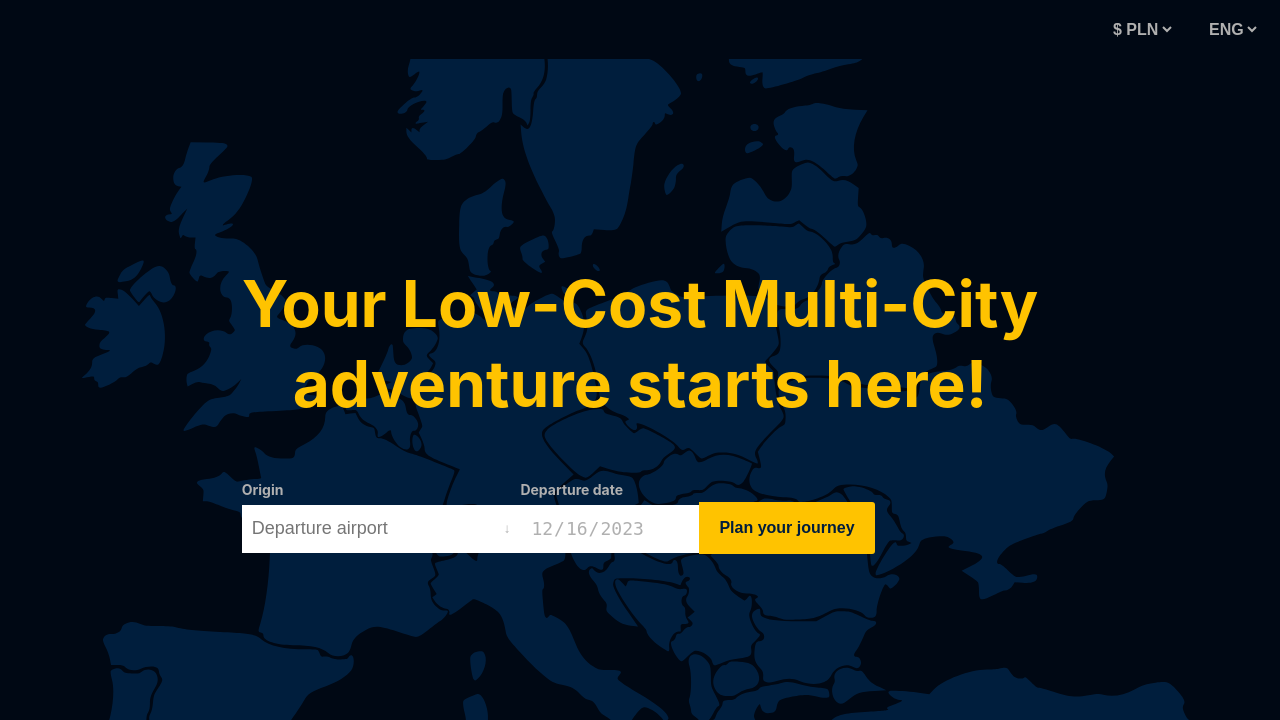
Test: Flight selection › allows user to select a flight and updates the ui
The width and height of the screenshot is (1280, 720).
Press ArrowDown in the dropdown with placeholder "Departure airport", box [242,504,494,552]
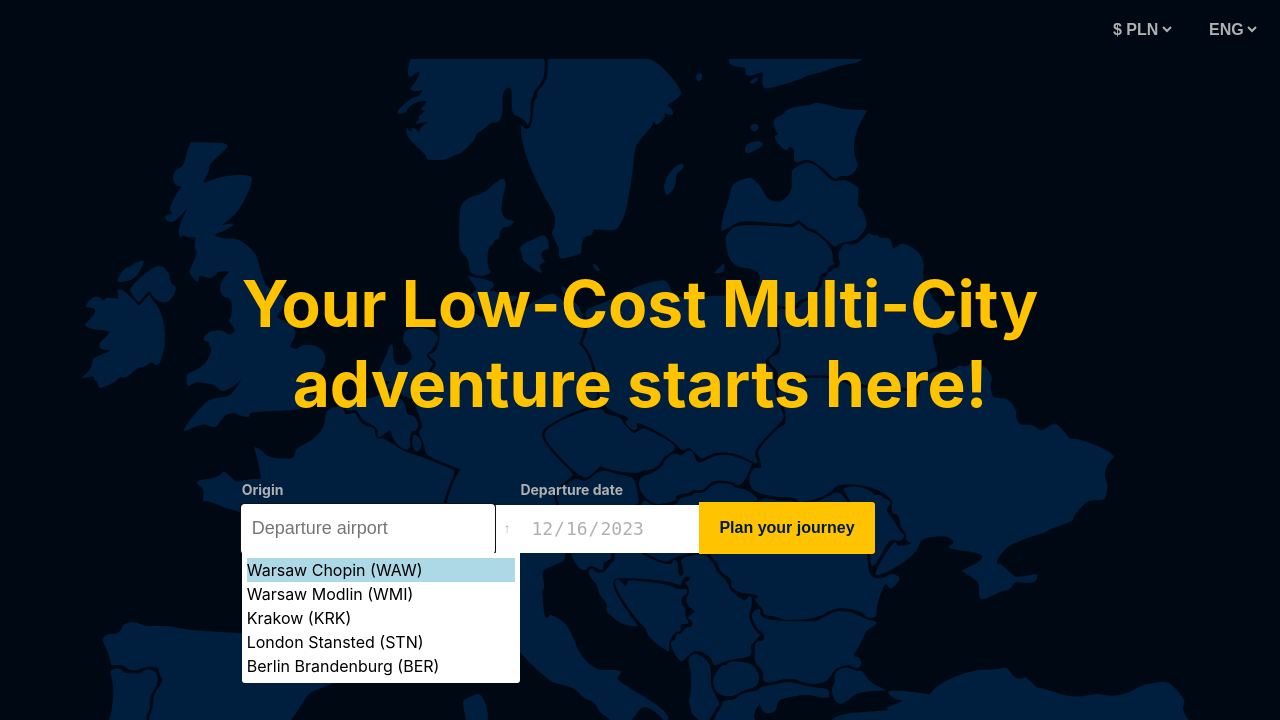
Press Enter in the dropdown with placeholder "Departure airport", box [242,504,494,552]
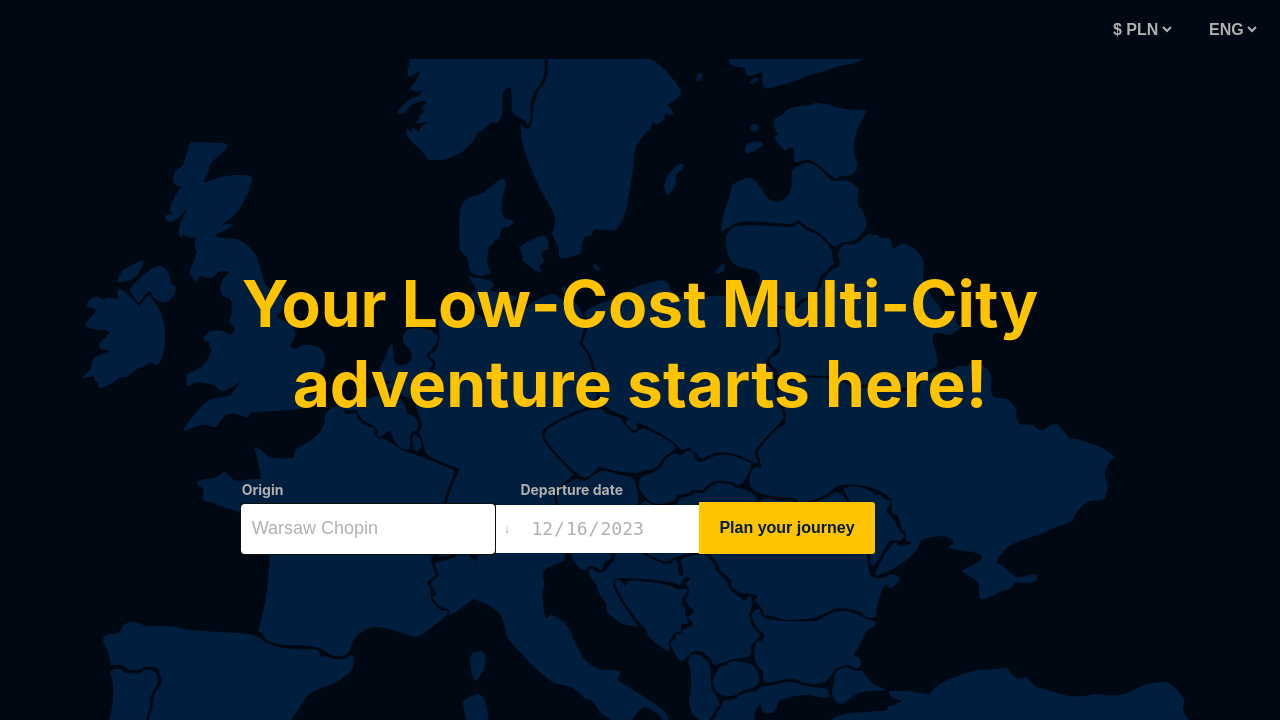
In the date field labelled "Departure date": (610, 528) [520,504,699,552], type "2024-11-10"
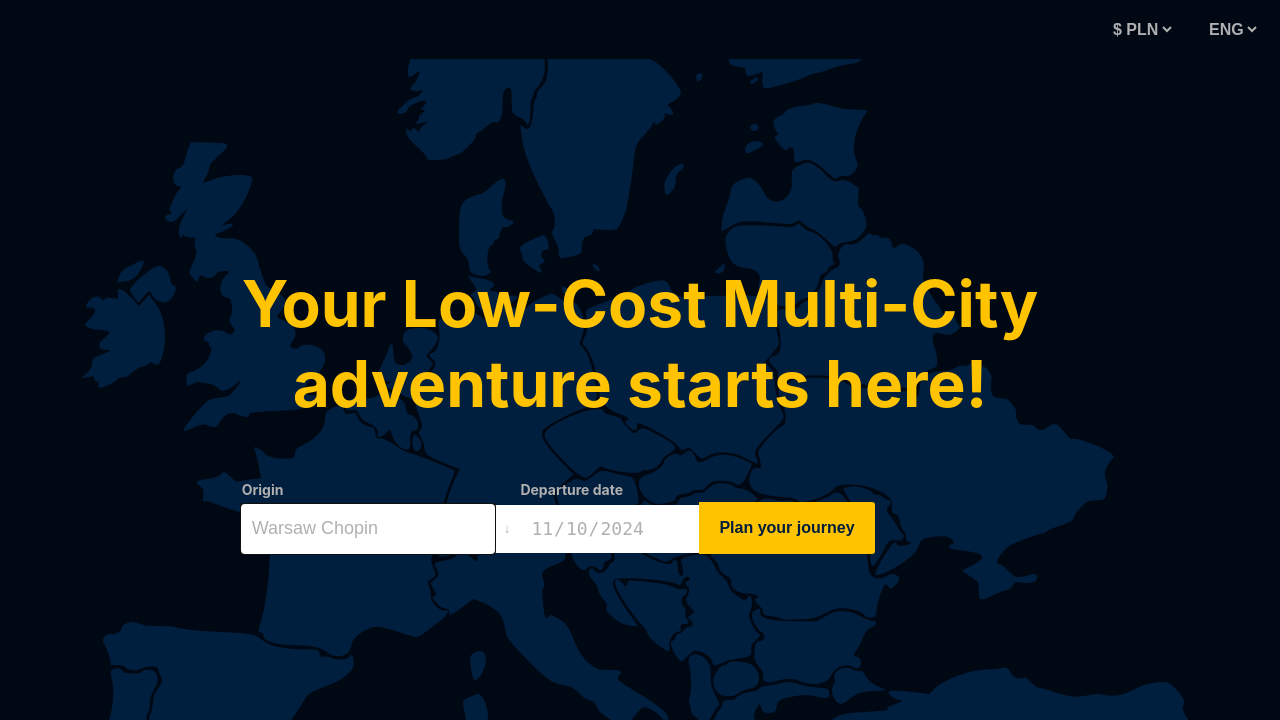
Click the button with test id "submit-departure-form": (787, 528) [699,502,874,554]
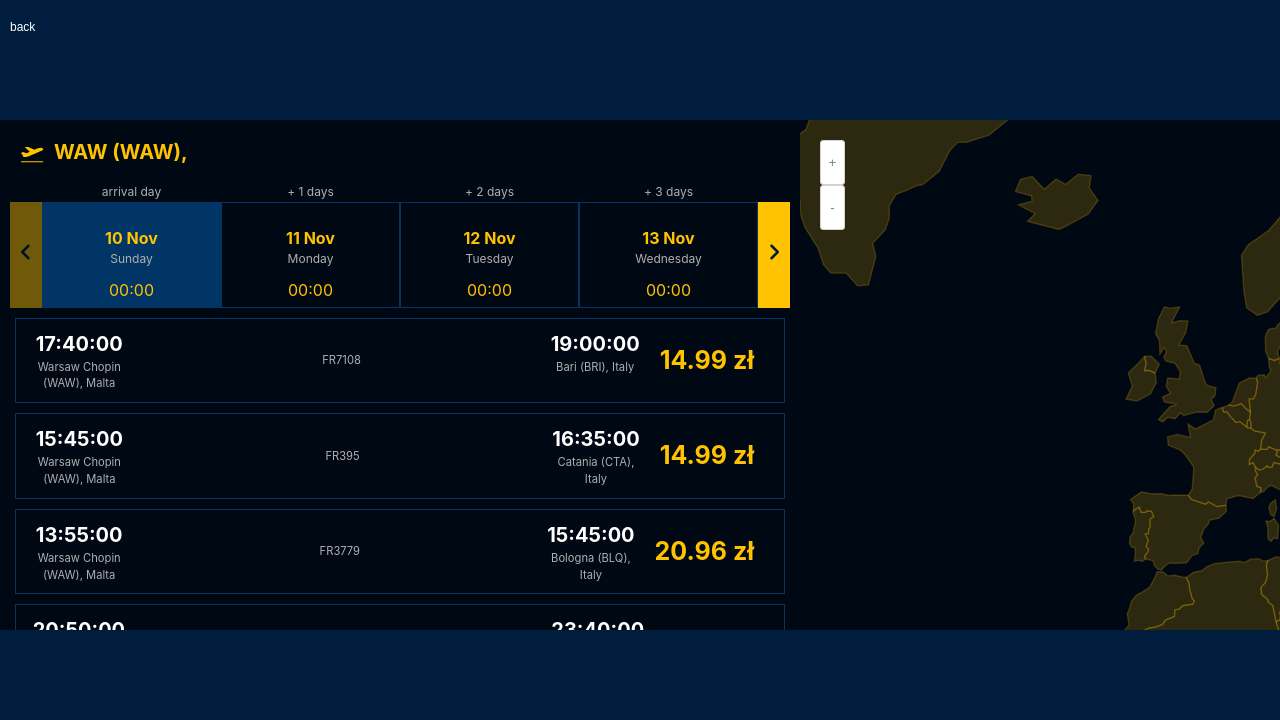
Now the text "Loading" is shown, box [0,120,800,630]
Click the 1st element with test id "element-flightlist": (400, 360) [15,318,785,403]
(page scrolled)
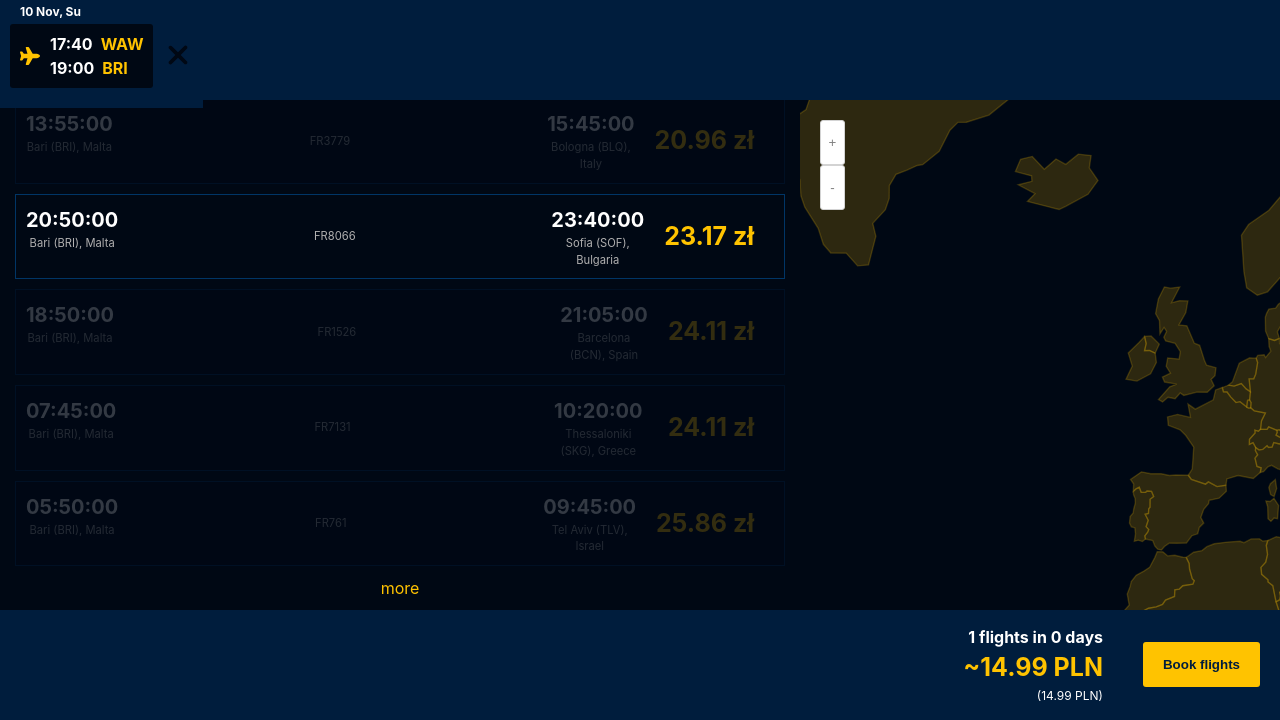
Now the text "Loading" is shown, box [0,100,800,610]
Now the text "BRI" is shown, box [102,56,128,80]
Now the element with test id "area-summary" shows "1 flights", box [0,610,1279,700]
